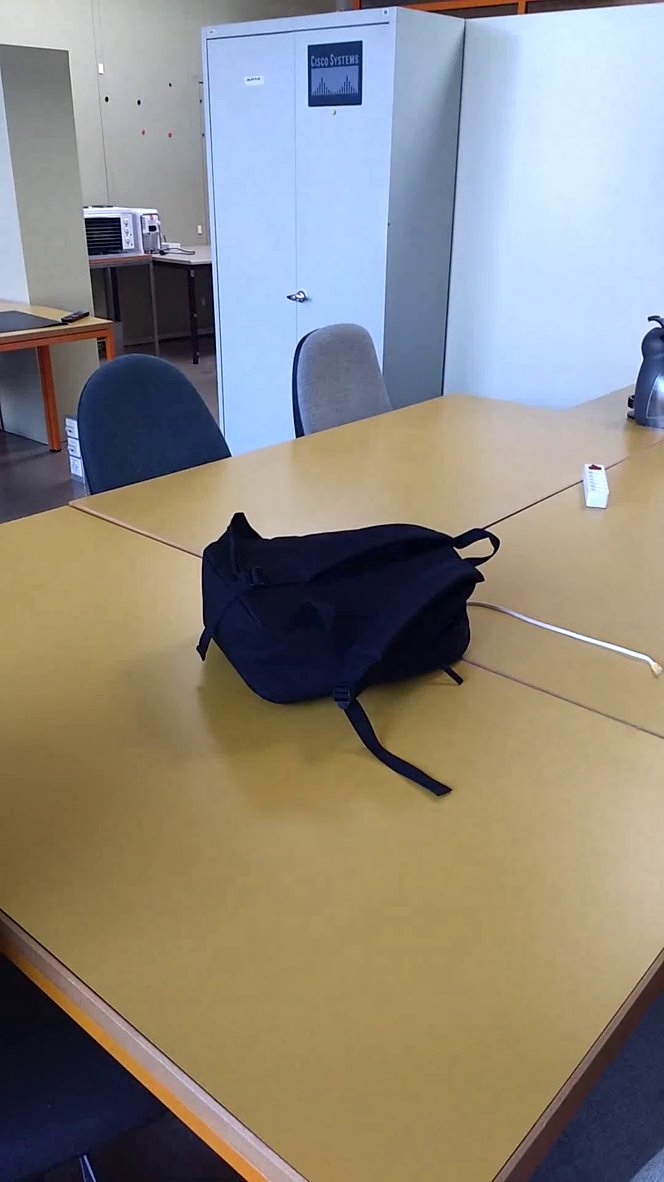bag: (164, 491, 509, 807)
chair: (65, 346, 244, 511), (281, 312, 416, 452)
